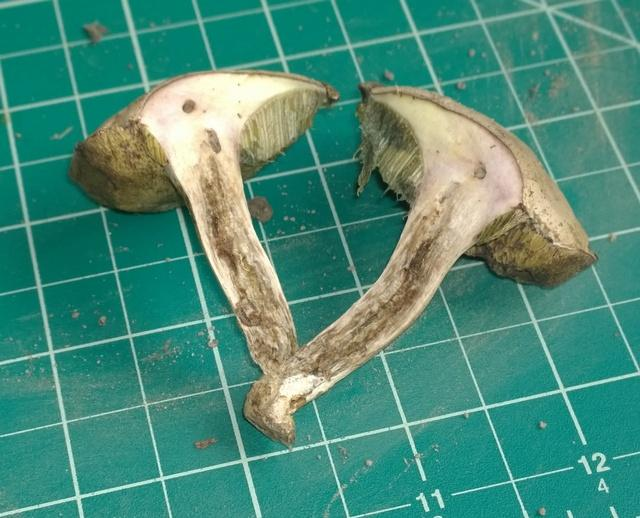Edible Mushroom: (68, 67, 598, 449)
